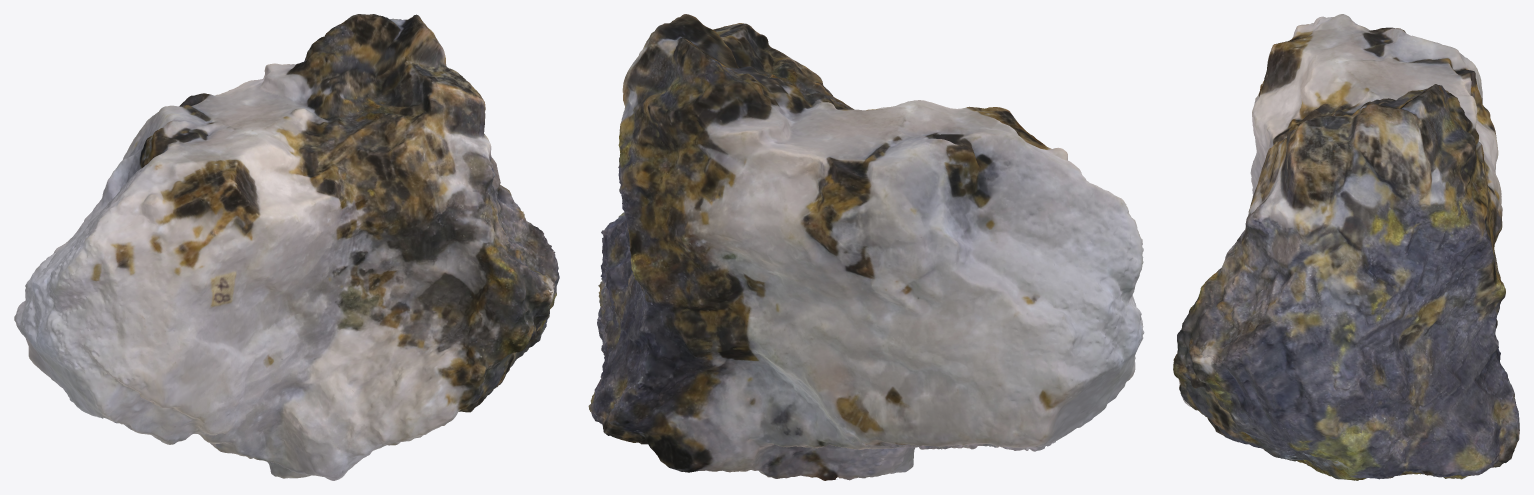
The model's file is galenite.glb.
The picture shows the model from 3 angles, left to right: view 1: azimuth 30°, elevation 25°; view 2: azimuth 150°, elevation 25°; view 3: azimuth 270°, elevation 25°; orthographic projection. The views are drawn at different scales.
Visible parts, largest first — view 1: Object_2, Object_3, Object_4, Object_5; view 2: Object_2, Object_4, Object_3, Object_5; view 3: Object_4, Object_3, Object_2, Object_5.
Part boxes in pixels (x1,y1,x2,y2): Object_2: (14, 60, 558, 478); Object_3: (89, 14, 559, 458); Object_4: (137, 14, 559, 451); Object_5: (104, 106, 370, 480); Object_2: (588, 23, 1144, 473); Object_4: (589, 14, 970, 480); Object_3: (591, 14, 1070, 478); Object_5: (770, 107, 1057, 479); Object_4: (1173, 39, 1518, 479); Object_3: (1173, 14, 1519, 480); Object_2: (1238, 14, 1510, 476); Object_5: (1255, 14, 1466, 167).
Bounding box in the file's own units: 1.73 × 1.31 × 1.01.
Materials: 1 (1 with a texture image).
